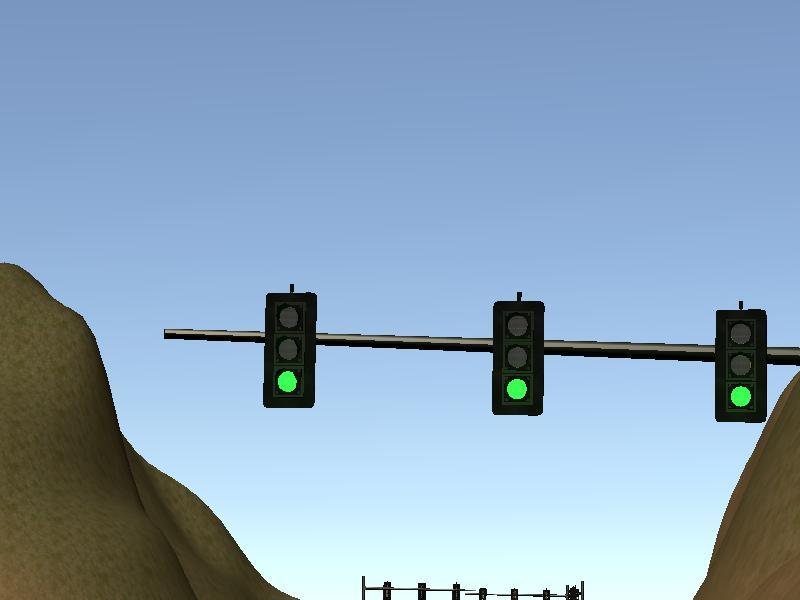Green: (264, 292, 316, 408), (715, 309, 767, 425), (492, 300, 544, 416)
